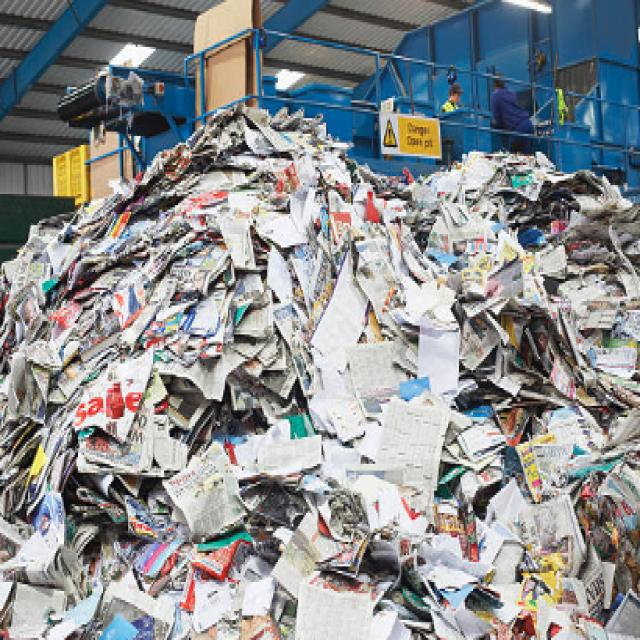KertasBekas: (0, 102, 638, 637)
